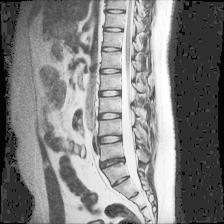disc: (98, 86, 126, 102), (96, 130, 124, 146), (98, 109, 124, 123), (97, 65, 124, 77), (102, 5, 129, 17), (100, 44, 126, 56), (102, 23, 124, 36)
hdisc: (96, 155, 128, 170)
